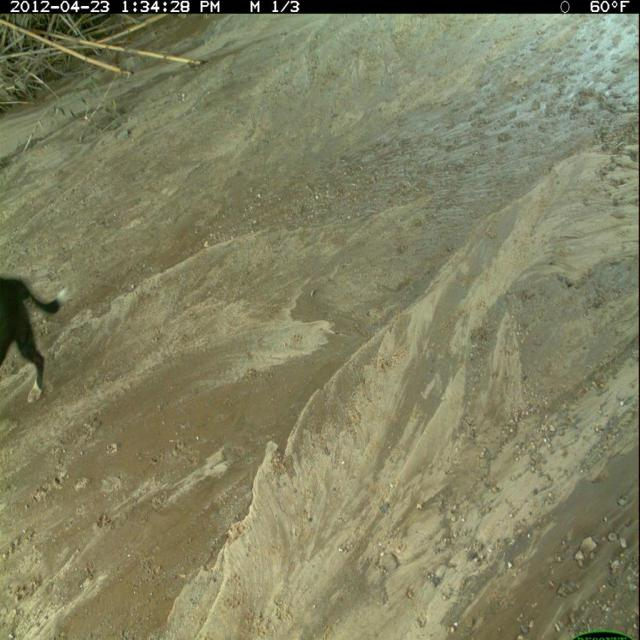dog: (1, 274, 73, 407)
